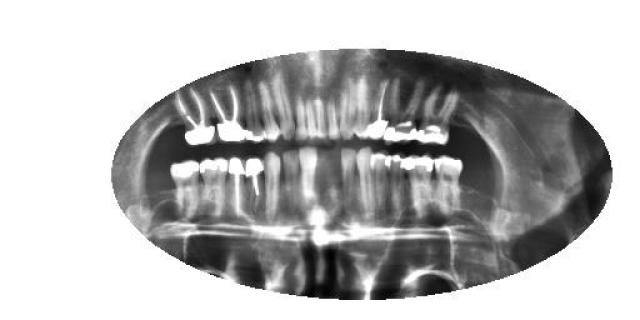Fillings: (386, 78, 425, 144), (419, 84, 459, 144), (404, 155, 434, 219), (169, 158, 199, 218), (242, 78, 266, 144), (202, 156, 228, 210)
Implant: (206, 80, 244, 146), (175, 85, 216, 146), (366, 76, 390, 142), (245, 155, 265, 214), (230, 156, 246, 215)
